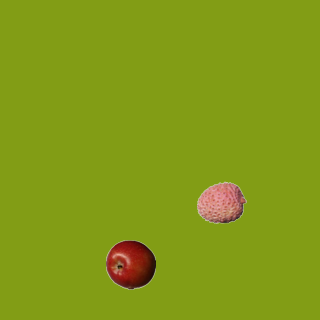Apple Braeburn: (105, 239, 155, 289)
Lychee: (196, 177, 246, 227)
